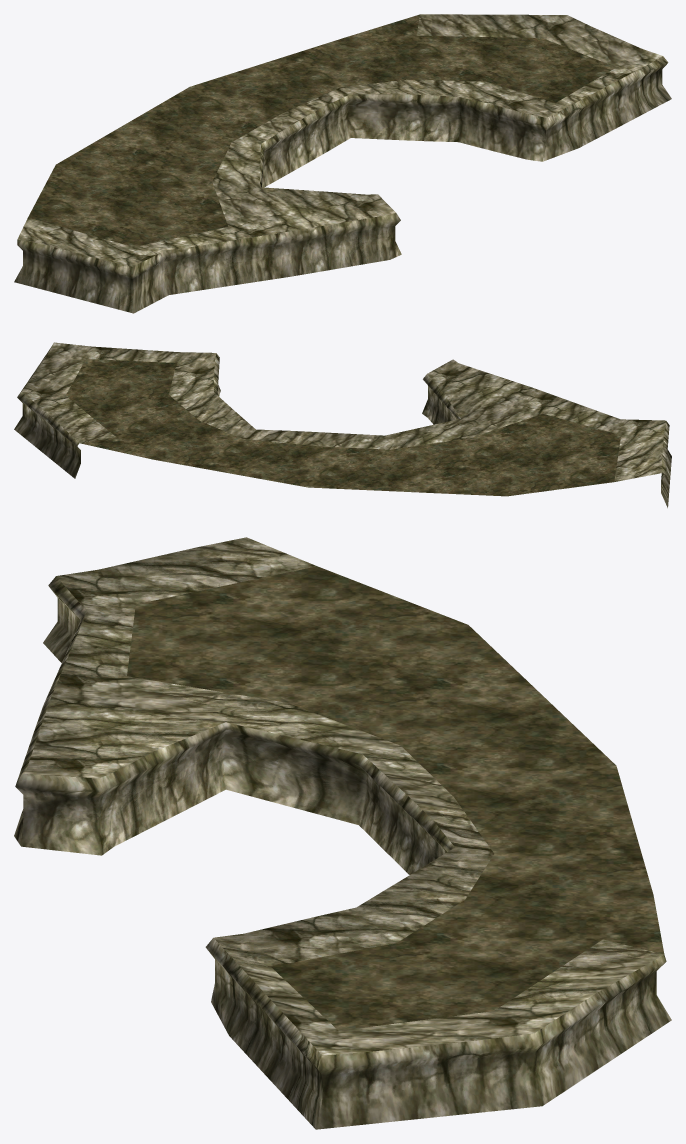
Rendered from CB_NEWPLAYSURFACE_CB_PLAYSURFACE137.fbx.
3 views of the same model, one above another, from view 1: azimuth 30°, elevation 25°; view 2: azimuth 150°, elevation 25°; view 3: azimuth 270°, elevation 25° (orthographic). The views are drawn at different scales.
Visible parts, largest first — view 1: CB_NEWPLAYSURFACE_CB_PLAYSURFACE137; view 2: CB_NEWPLAYSURFACE_CB_PLAYSURFACE137; view 3: CB_NEWPLAYSURFACE_CB_PLAYSURFACE137.
Boxes of the visible parts, bbox=[...] form: CB_NEWPLAYSURFACE_CB_PLAYSURFACE137: bbox=[14, 14, 671, 313]; CB_NEWPLAYSURFACE_CB_PLAYSURFACE137: bbox=[14, 342, 671, 507]; CB_NEWPLAYSURFACE_CB_PLAYSURFACE137: bbox=[14, 537, 671, 1129].
Size of the model in its own units: 480040 by 31044 by 251051.
3 materials, 3 textured.
